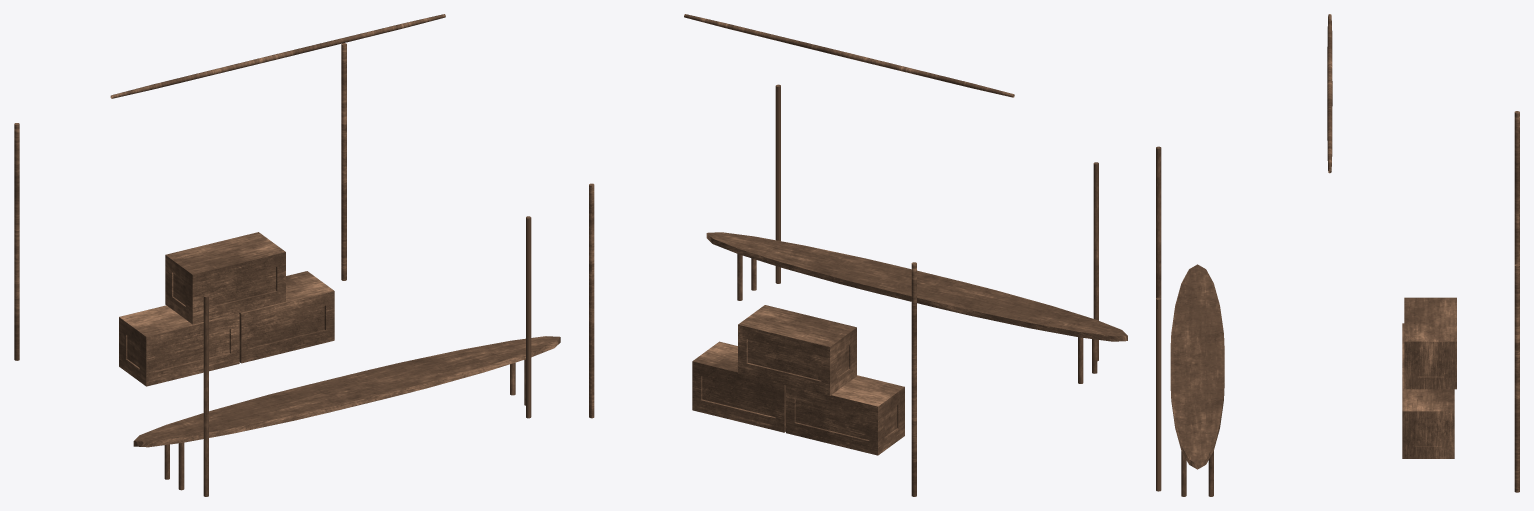
File: wood.fbx
3 views of the same model, side by side, from view 1: azimuth 30°, elevation 25°; view 2: azimuth 150°, elevation 25°; view 3: azimuth 270°, elevation 25° (orthographic). The views are drawn at different scales.
Parts seen in each view (by area): view 1: pCylinder6, pCube6, pCube8, pCube7, pCylinder5, pCylinder3, pCylinder4, pCylinder1, pCylinder2; view 2: pCylinder6, pCube6, pCube8, pCube7, pCylinder5, pCylinder4, pCylinder3, pCylinder1, pCylinder2; view 3: pCylinder6, pCube6, pCube7, pCylinder4, pCylinder1, pCylinder3, pCylinder2, pCylinder5.
Part boxes in pixels (x1=…): pCylinder6: x1=133, y1=336, x2=560, y2=447; pCube6: x1=165, y1=232, x2=285, y2=324; pCube8: x1=119, y1=305, x2=239, y2=386; pCube7: x1=239, y1=271, x2=334, y2=363; pCylinder5: x1=110, y1=14, x2=445, y2=98; pCylinder3: x1=14, y1=123, x2=19, y2=360; pCylinder4: x1=341, y1=43, x2=346, y2=280; pCylinder1: x1=526, y1=216, x2=531, y2=418; pCylinder2: x1=203, y1=295, x2=208, y2=496; pCylinder6: x1=706, y1=232, x2=1127, y2=341; pCube6: x1=738, y1=305, x2=856, y2=395; pCube8: x1=786, y1=375, x2=904, y2=455; pCube7: x1=692, y1=341, x2=785, y2=432; pCylinder5: x1=684, y1=14, x2=1014, y2=97; pCylinder4: x1=589, y1=183, x2=594, y2=418; pCylinder3: x1=911, y1=262, x2=916, y2=496; pCylinder1: x1=775, y1=84, x2=780, y2=283; pCylinder2: x1=1093, y1=162, x2=1098, y2=361; pCylinder6: x1=1170, y1=264, x2=1224, y2=469; pCube6: x1=1404, y1=297, x2=1456, y2=389; pCube7: x1=1402, y1=367, x2=1454, y2=458; pCylinder4: x1=1514, y1=264, x2=1519, y2=492; pCylinder1: x1=1156, y1=297, x2=1161, y2=491; pCylinder3: x1=1514, y1=111, x2=1519, y2=264; pCylinder2: x1=1156, y1=146, x2=1161, y2=297; pCylinder5: x1=1327, y1=14, x2=1332, y2=173.
Bounding box in the file's own units: 9 × 6.79 × 6.92.
1 material, 1 textured.
